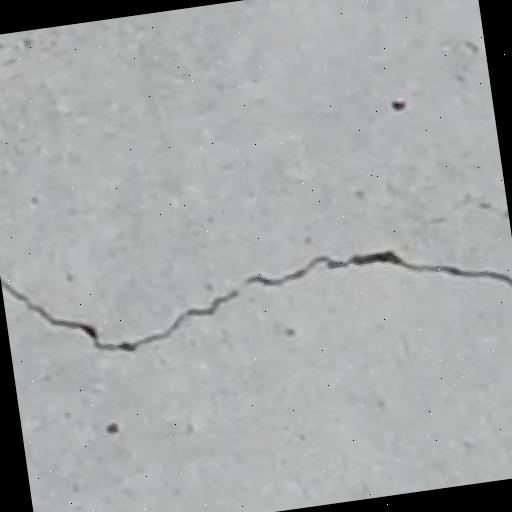spalling: (2, 238, 512, 377)
